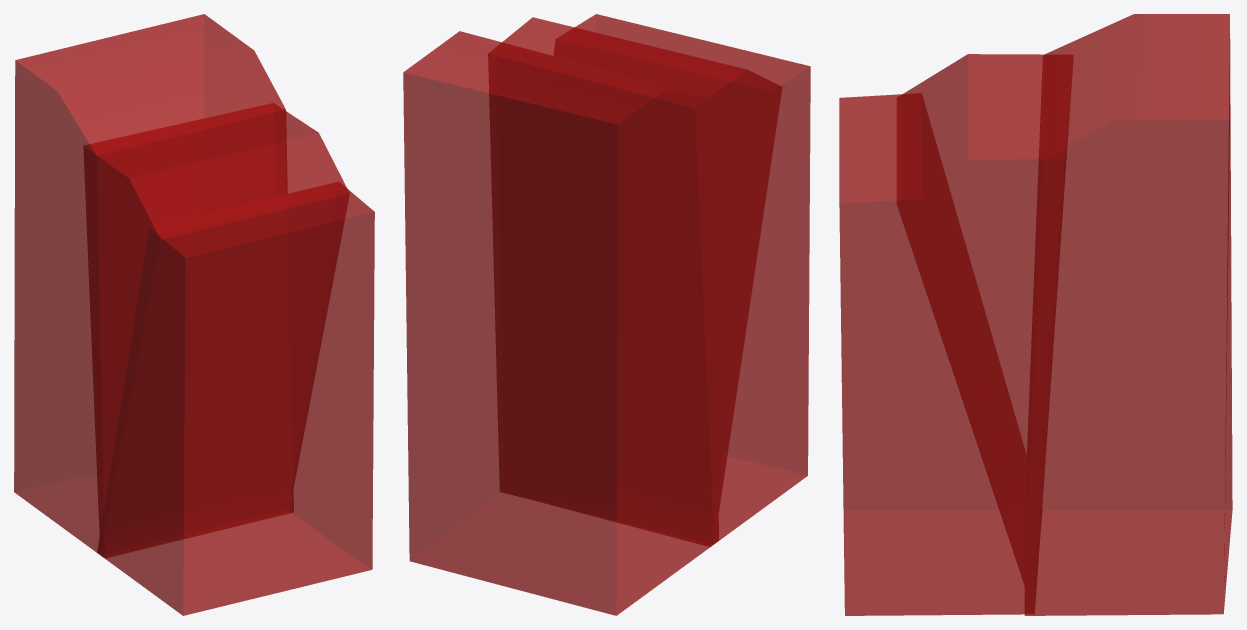
The model's file is SM_Env_Rock_Stairs_04_Collision.fbx.
3 views of the same model, side by side, from view 1: azimuth 30°, elevation 25°; view 2: azimuth 150°, elevation 25°; view 3: azimuth 270°, elevation 25° (orthographic). The views are drawn at different scales.
Parts seen in each view (by area): view 1: SM_Env_Rock_Stairs_04_Collision; view 2: SM_Env_Rock_Stairs_04_Collision; view 3: SM_Env_Rock_Stairs_04_Collision.
Boxes of the visible parts, x1,y1,x2,y2 form: SM_Env_Rock_Stairs_04_Collision: [14, 14, 374, 615]; SM_Env_Rock_Stairs_04_Collision: [403, 14, 810, 615]; SM_Env_Rock_Stairs_04_Collision: [839, 14, 1232, 615].
Size of the model in its own units: 286 by 625 by 449.
